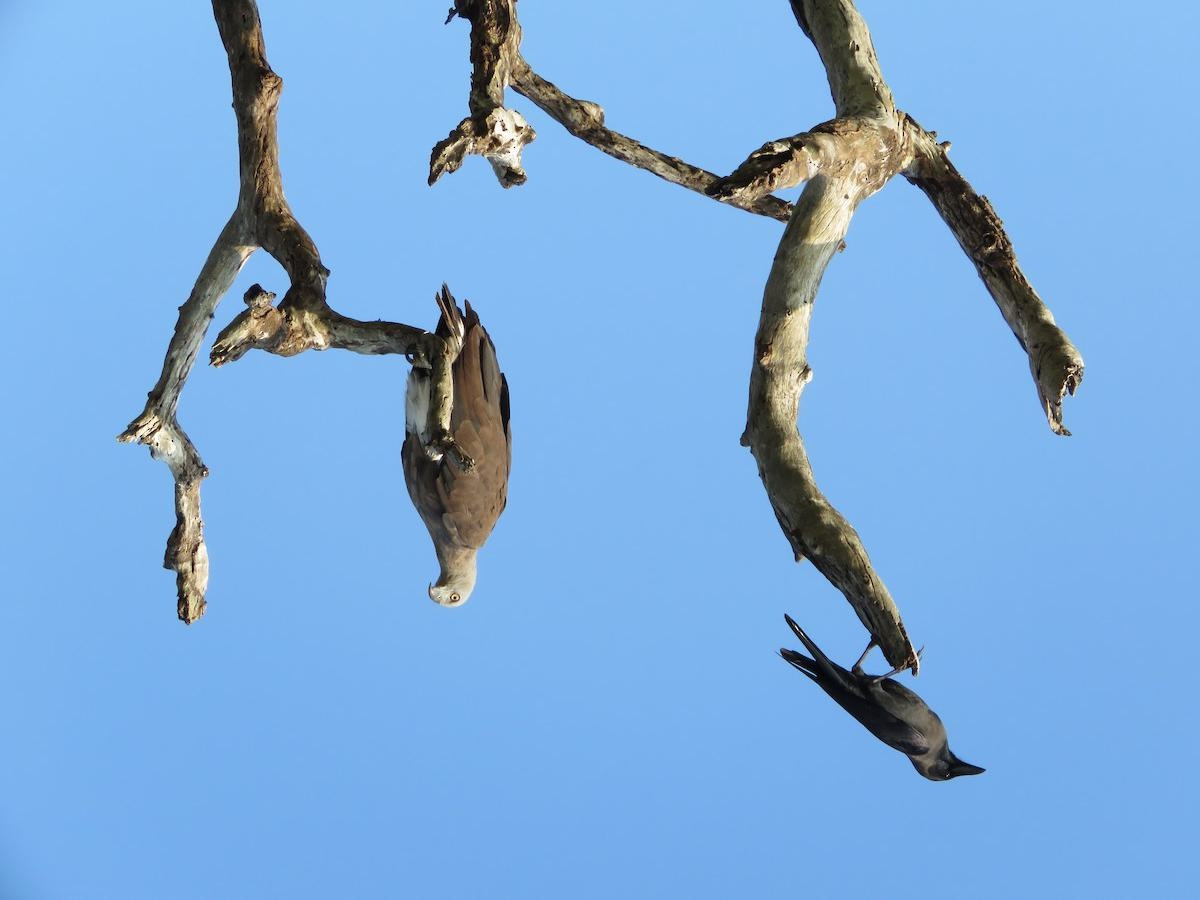crow: (765, 612, 996, 793)
